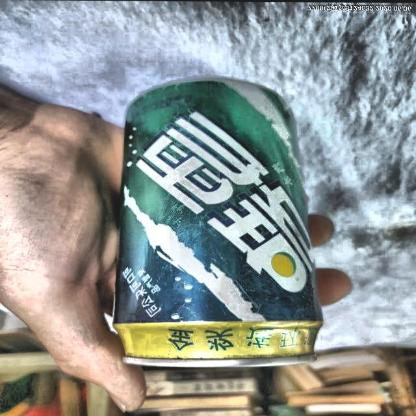Can: (108, 74, 330, 374)
